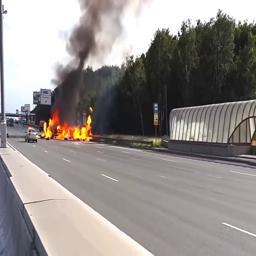fire: (41, 110, 93, 141)
